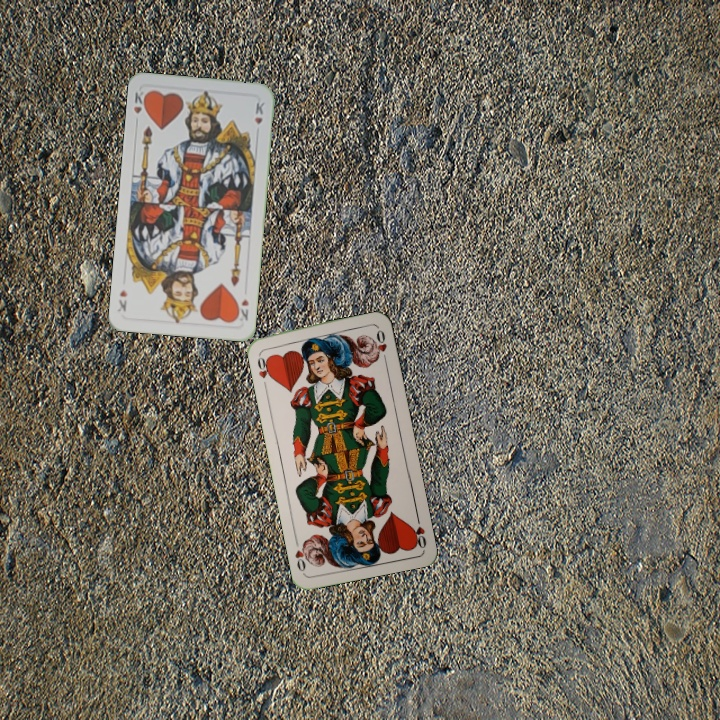HK: (129, 87, 150, 127), (232, 295, 251, 323)
HO: (253, 349, 275, 390), (408, 510, 429, 551)
